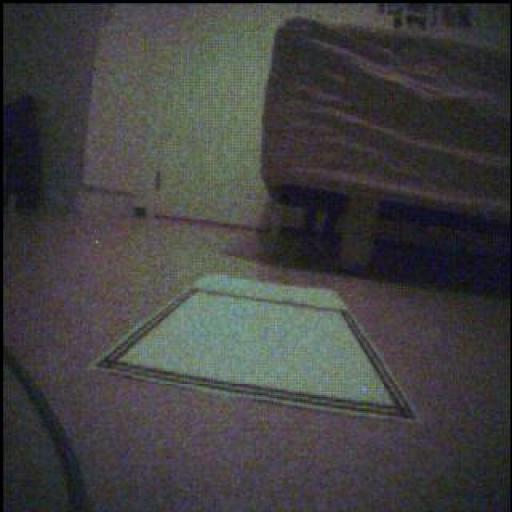pad: (95, 276, 414, 419)
